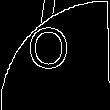O_S: (34, 29, 76, 81)
